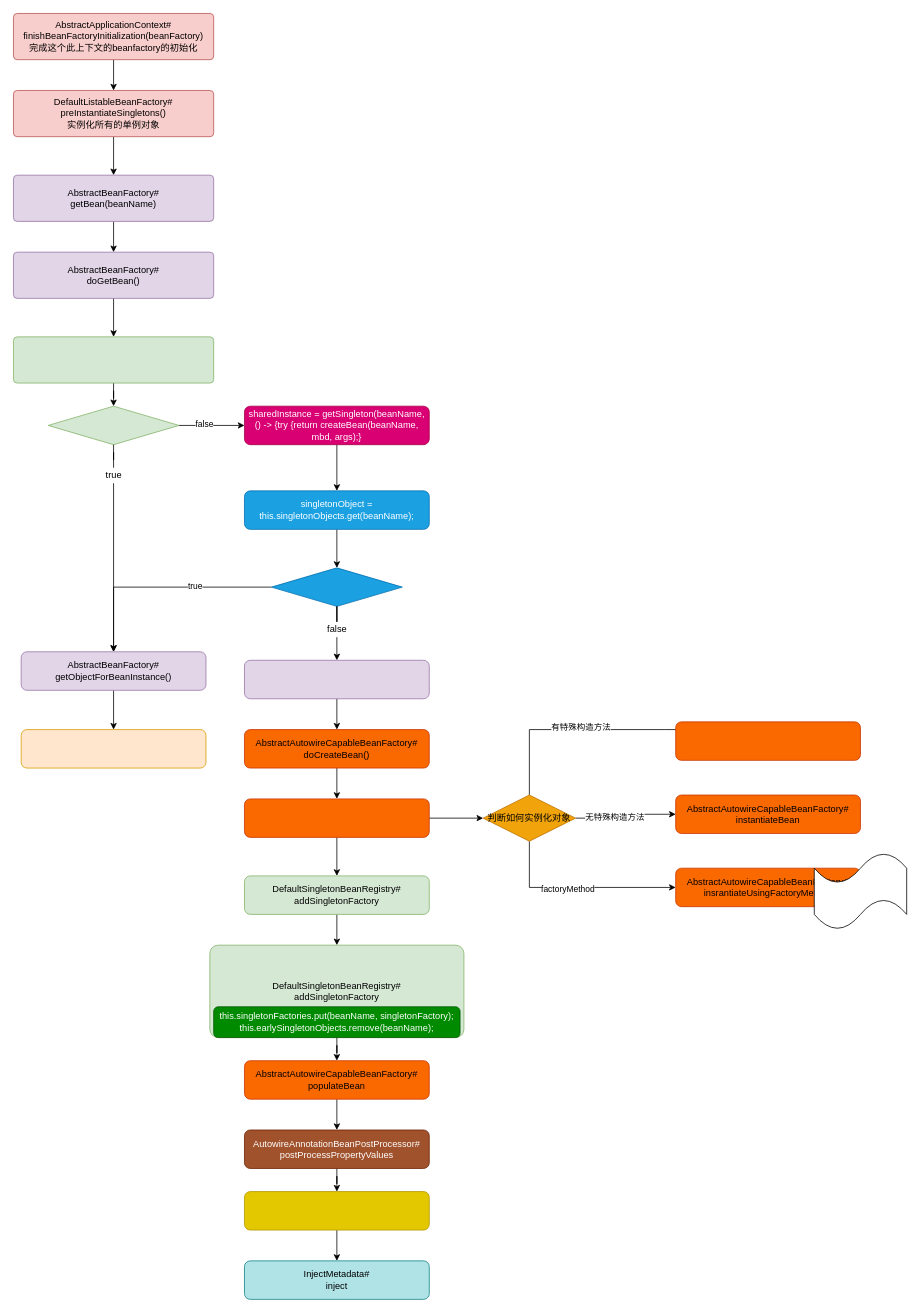
The diagram is 920 pixels wide and 1313 high, and some of its shapes have lost their labels. The shapes that lost their labels are listed below. From the top down, each one's centre as x and y in pixels, then its label:
At (113,359): "DefaultSingletonBeanRegistry# sharedInstance = getSingleton(beanName)".
At (113,425): "sharedInstance != null".
At (336,586): "singletonObject ! = null".
At (336,679): "AbstractBeanFactory# createBean".
At (113,748): "return bean".
At (767,740): "AbstractAutowireCapableBeanFactory# autowireConstrutor".
At (336,817): "AbstractAutowireCapableBeanFactory# createBeanInstance".
At (336,1210): "CommonAnnotationBeanPostProcessor# postProcessPropertyValues".
